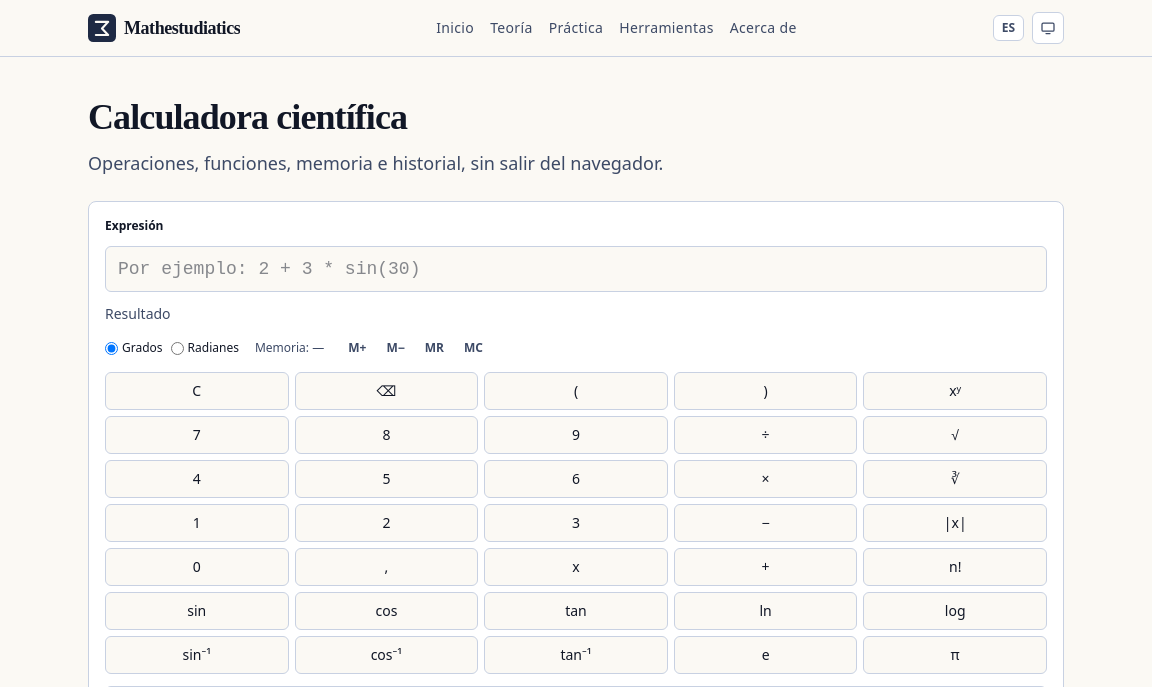
Scenario: calculator page › solves linear and quadratic equations with x
Expected: the heading "Calculadora científica" is shown, x1=88 y1=97 x2=407 y2=137
Type "2x + 3 = 7" into the field labelled "Expresión" at (576, 269), box x1=105 y1=246 x2=1047 y2=292
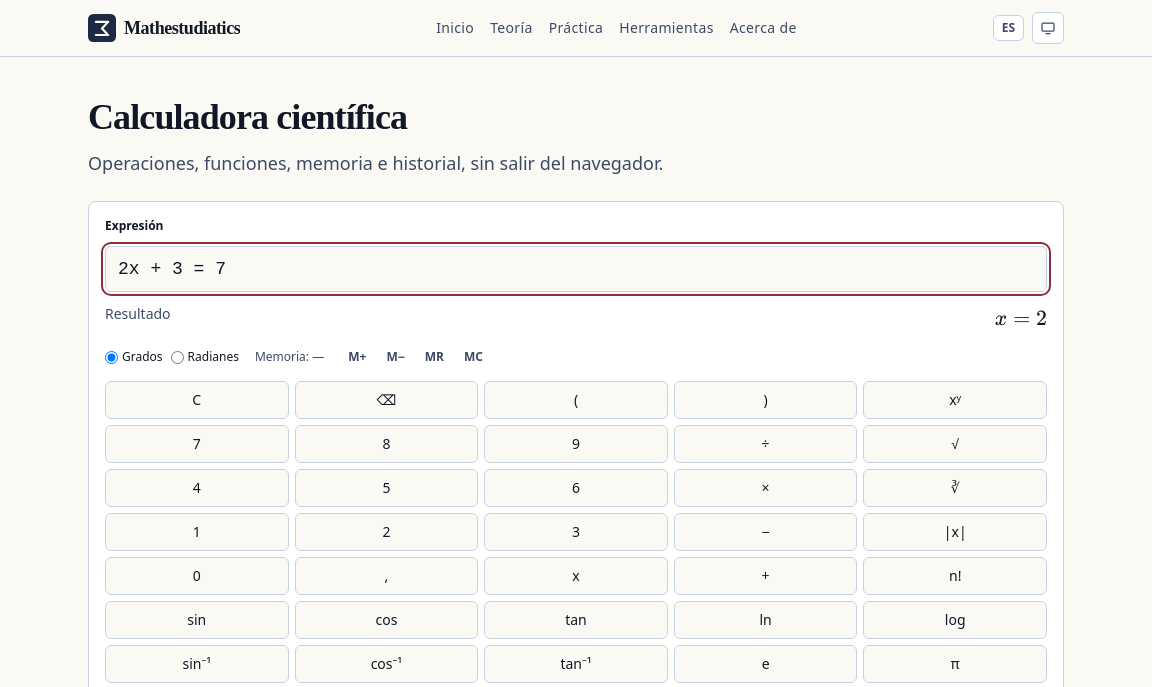
Expected: the message reads "x= 2", x1=995 y1=304 x2=1047 y2=333
Replace the text in the field labelled "Expresión" with "x^2 - 4 = 0" at (576, 269), box x1=105 y1=246 x2=1047 y2=292
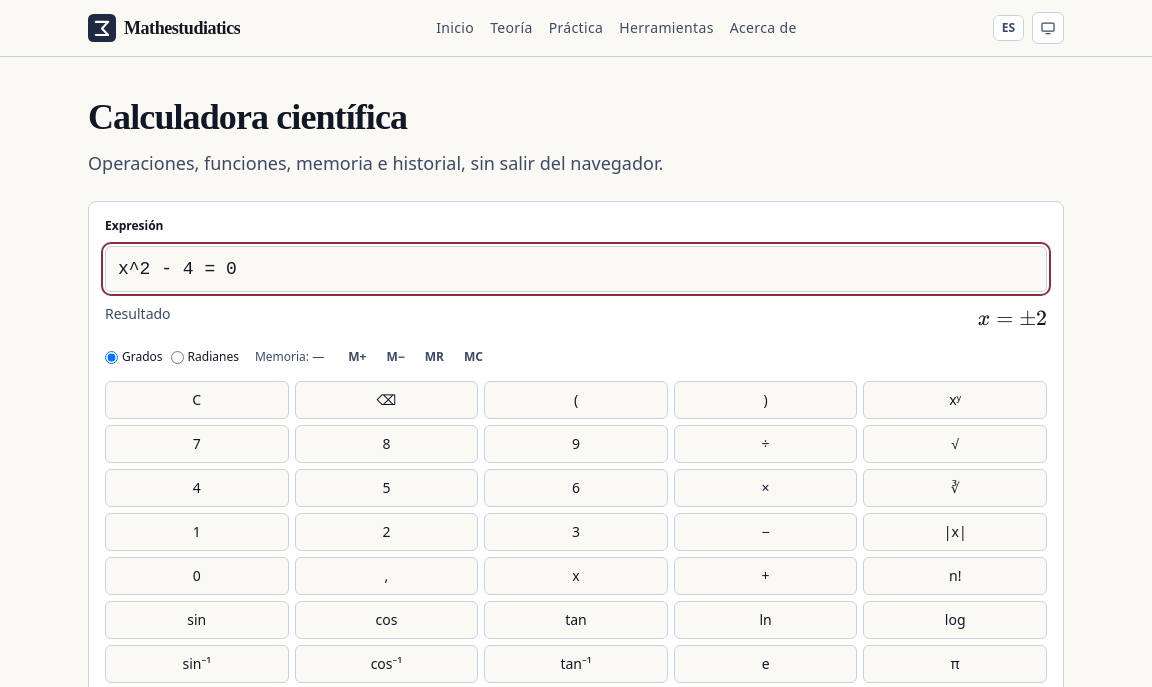
Expected: the element with class "katex" is shown, x1=978 y1=305 x2=1047 y2=331
Expected: the message shows "x", x1=978 y1=309 x2=990 y2=330
